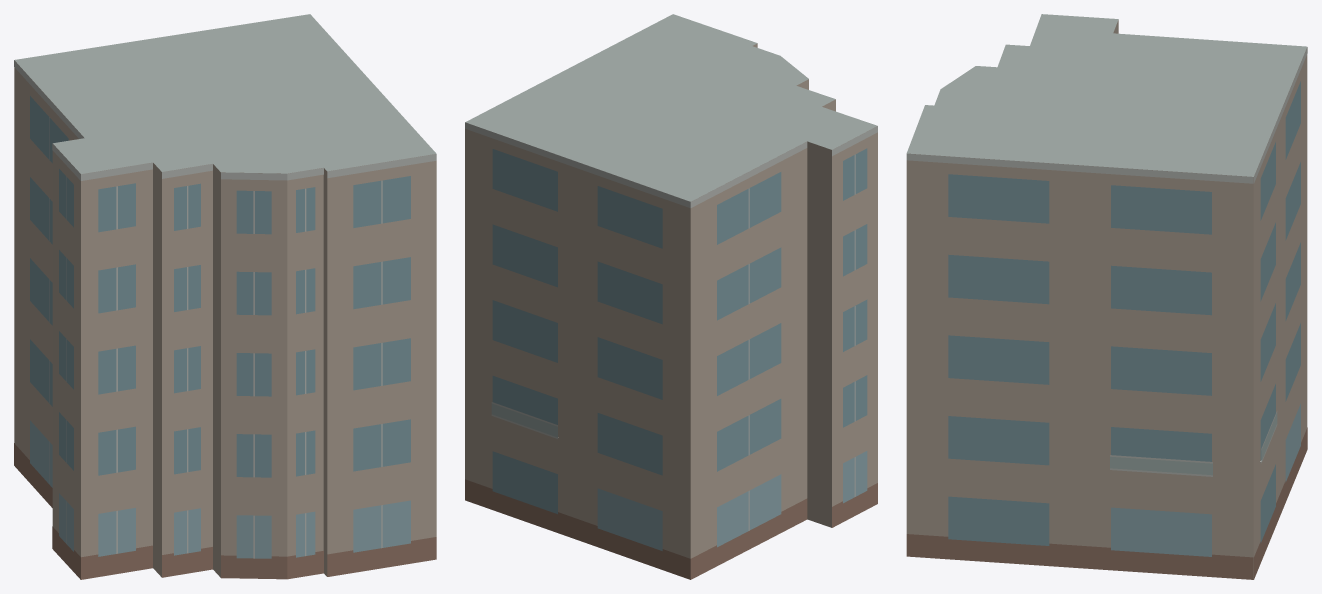
File: survey-upis-32920616.glb
3 renders of one model, left to right at view 1: azimuth 30°, elevation 25°; view 2: azimuth 150°, elevation 25°; view 3: azimuth 270°, elevation 25°, orthographic. The views are drawn at different scales.
Parts seen in each view (by area): view 1: survey-upis-32920616.tmp; view 2: survey-upis-32920616.tmp; view 3: survey-upis-32920616.tmp.
Part boxes in pixels (box(x1,y1,x2,y2)): survey-upis-32920616.tmp: box(14, 14, 436, 579); survey-upis-32920616.tmp: box(465, 14, 877, 579); survey-upis-32920616.tmp: box(906, 14, 1307, 579).
Bounding box in the file's own units: 12.41 × 14.3 × 12.9.
